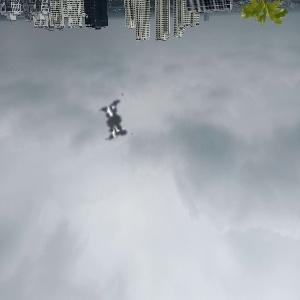drone: (67, 69, 170, 172)
